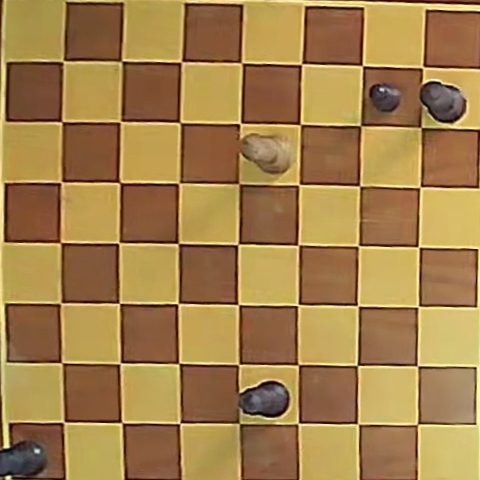black-king: (420, 81, 466, 123)
black-pawn: (370, 83, 402, 112)
black-queen: (239, 380, 290, 417), (0, 439, 48, 477)
white-king: (241, 134, 292, 174)
